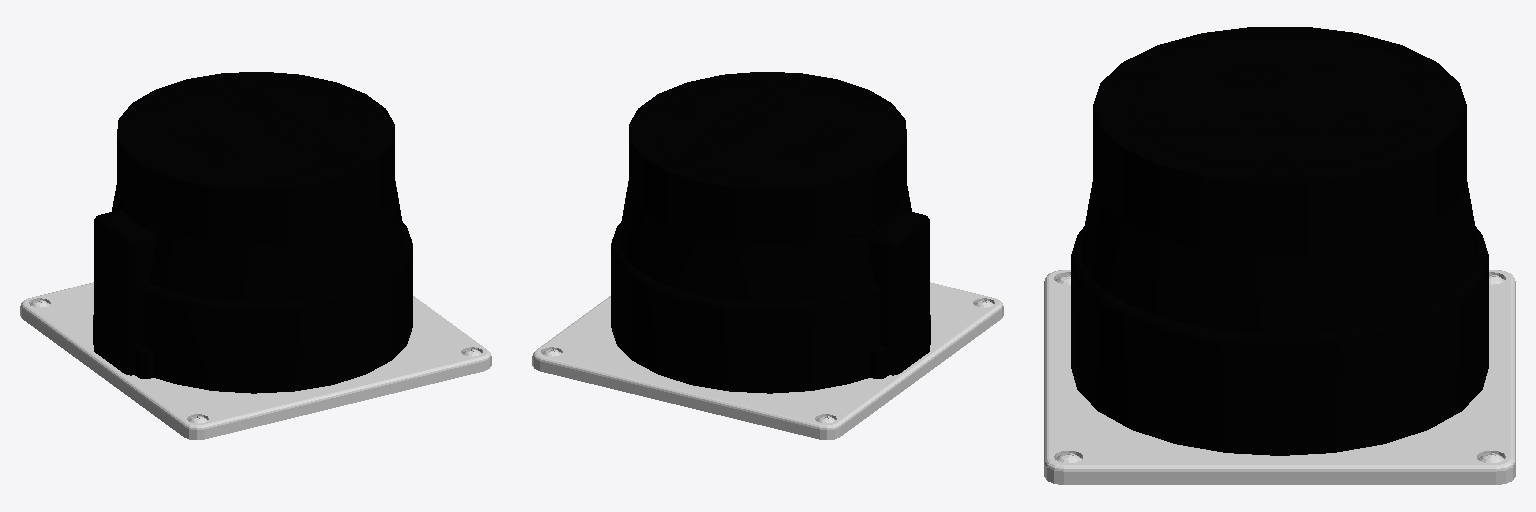
robot.urdf — hokuyo:
<?xml version="1.0" ?>
<robot name="hokuyo">
  <link name="link">
    <inertial>
      <mass value="0.1"/>
    </inertial>
    <visual>
      <geometry>
        <mesh filename="package://3d_reconstruction/models/hokuyo/meshes/hokuyo.dae"/>
      </geometry>
    </visual>
  </link>
</robot>

--- What the picture shows (computed from the rendered views, not written in the file) ---
The picture shows the robot from 3 angles, left to right: view 1: azimuth 30°, elevation 25°; view 2: azimuth 150°, elevation 25°; view 3: azimuth 270°, elevation 25°; orthographic projection.
Model hokuyo with 1 links and 0 joints (none), rooted at link, posed all joints at 0.
Links seen in each view (by area): view 1: link; view 2: link; view 3: link.
Boxes of the visible links, box(x1,y1,x2,y2) form: link: box(20, 72, 491, 439); link: box(532, 72, 1003, 439); link: box(1044, 27, 1515, 484).
Bounding box of the posed robot: 0.0076 × 0.0076 × 0.005 m (x, y, z).
Meshes: 1 distinct files referenced, 1 mesh visuals loaded (1 Collada DAE).
